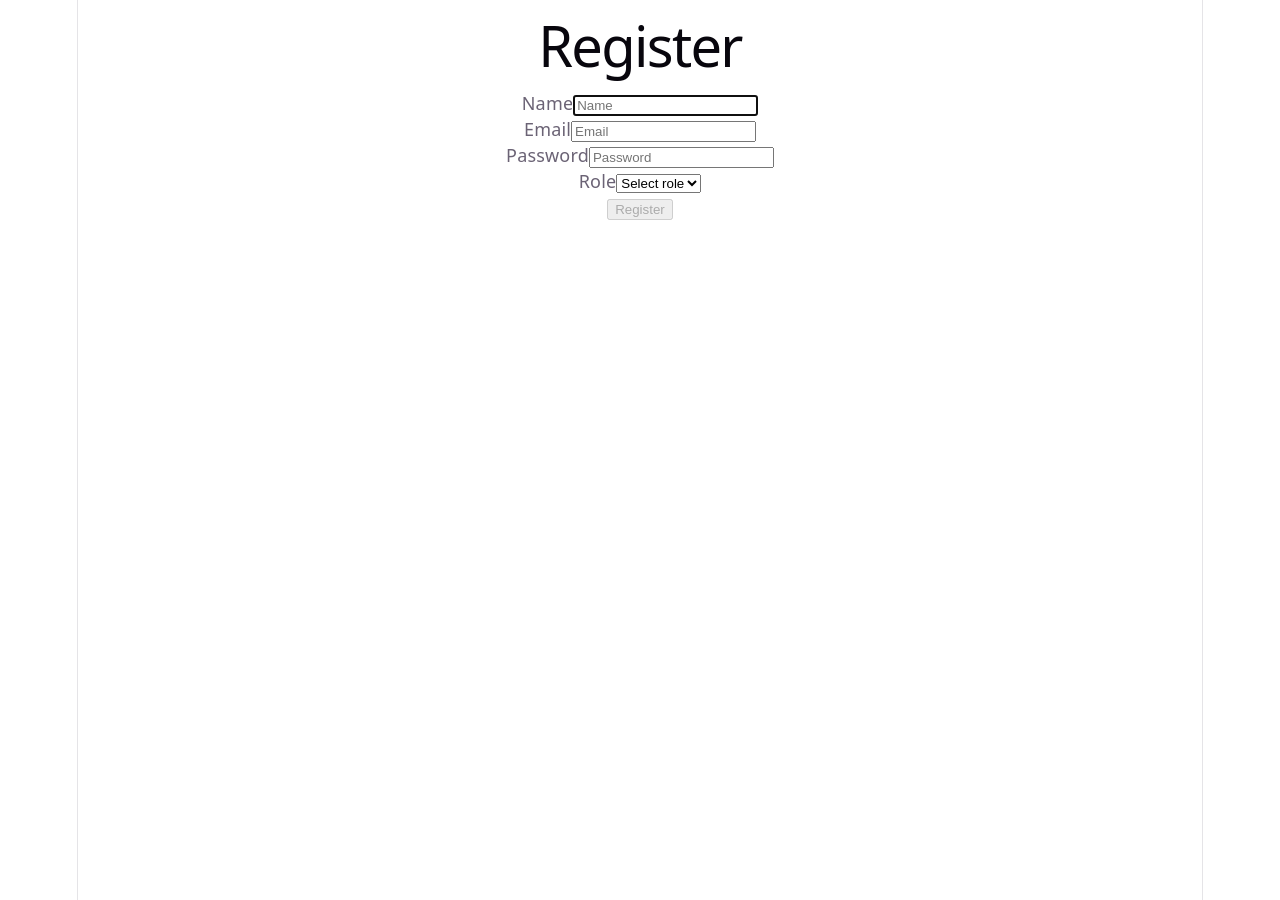
it: RegisterPage › the button is enabled when all fields are filled
Type "Jane Doe" into the field labelled "Name" at (666, 106), box [573,95,758,116]
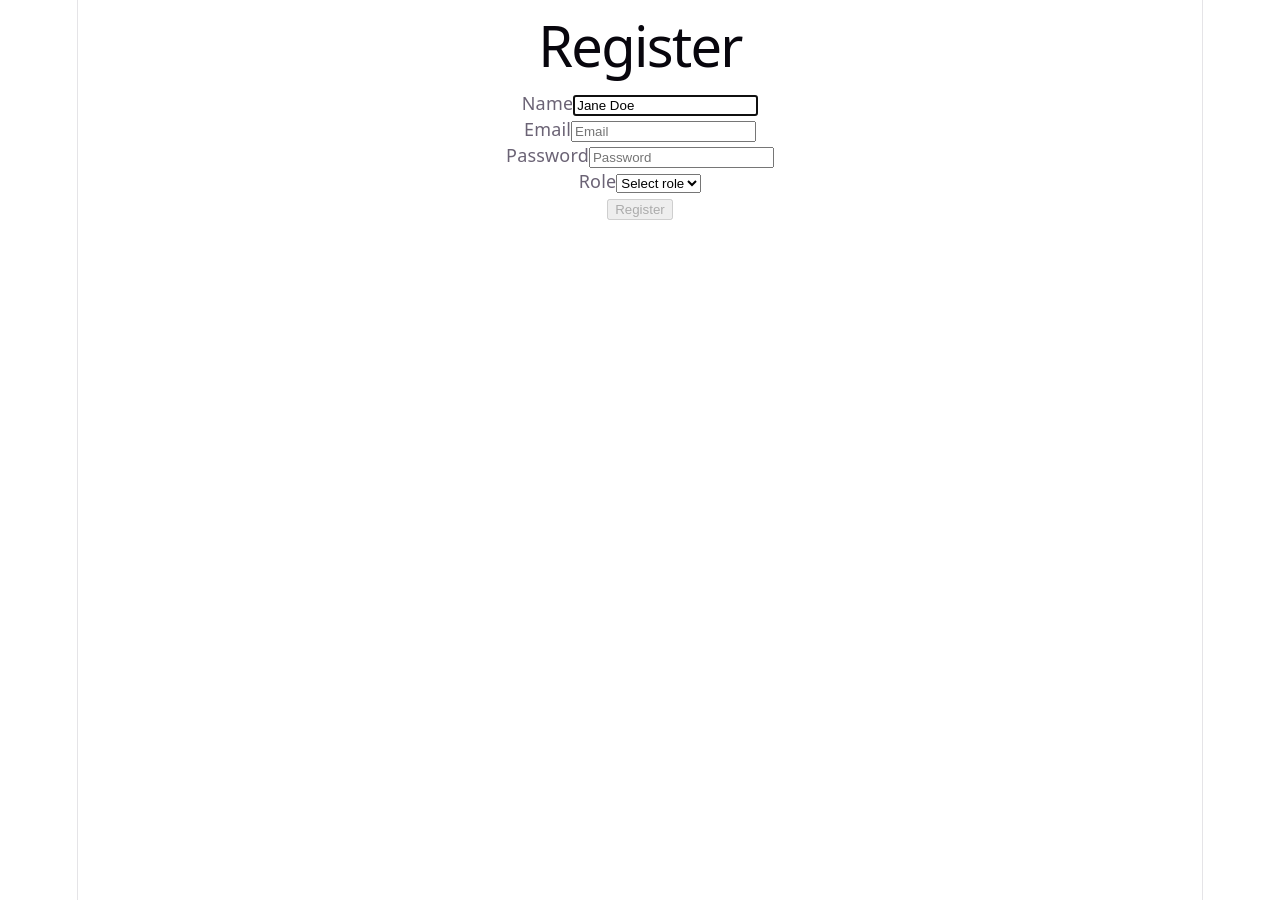
Type "jane@example.com" into the field labelled "Email" at (664, 132), box [571,121,756,142]
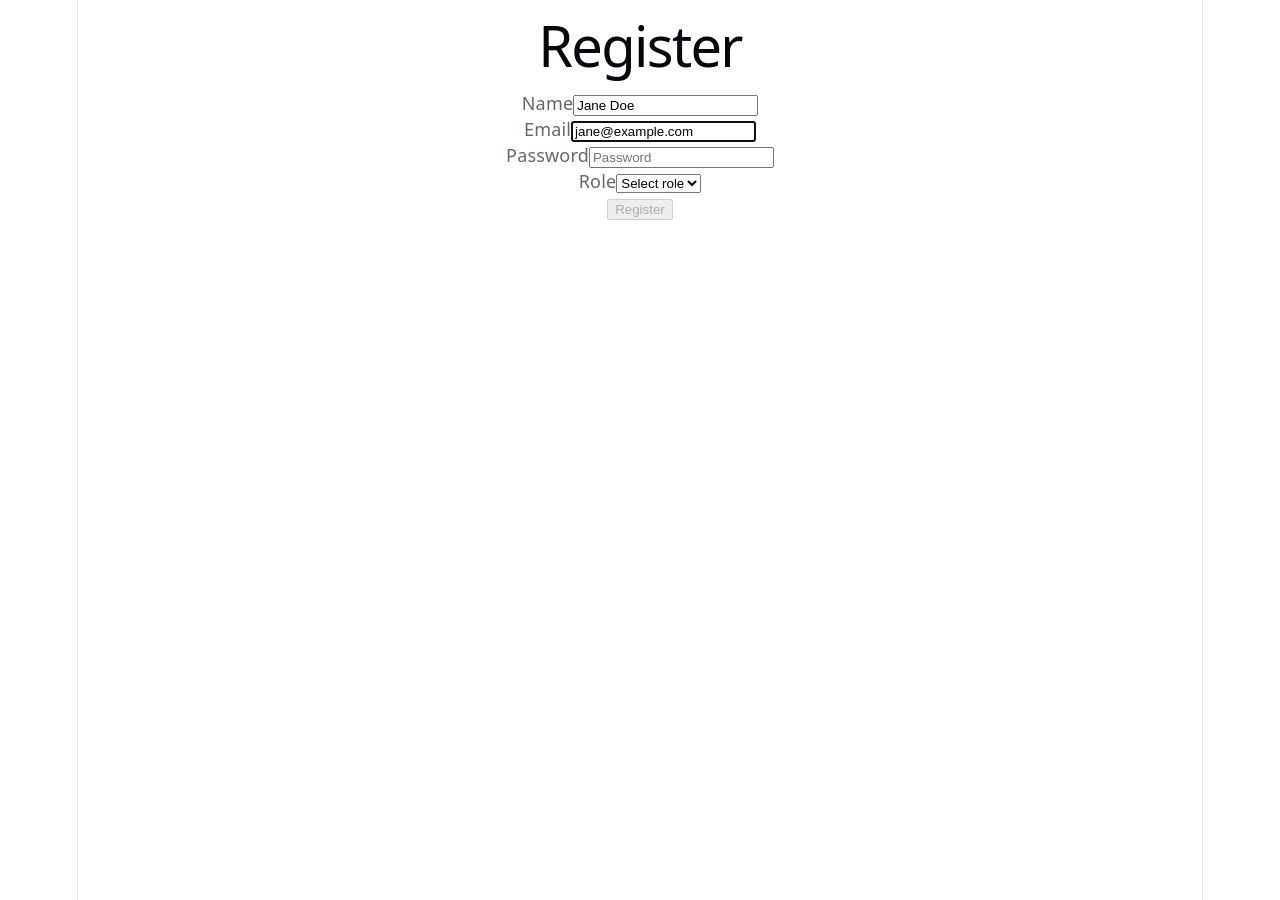
Type "password" into the password field labelled "Password" at (681, 158), box [589,147,774,168]
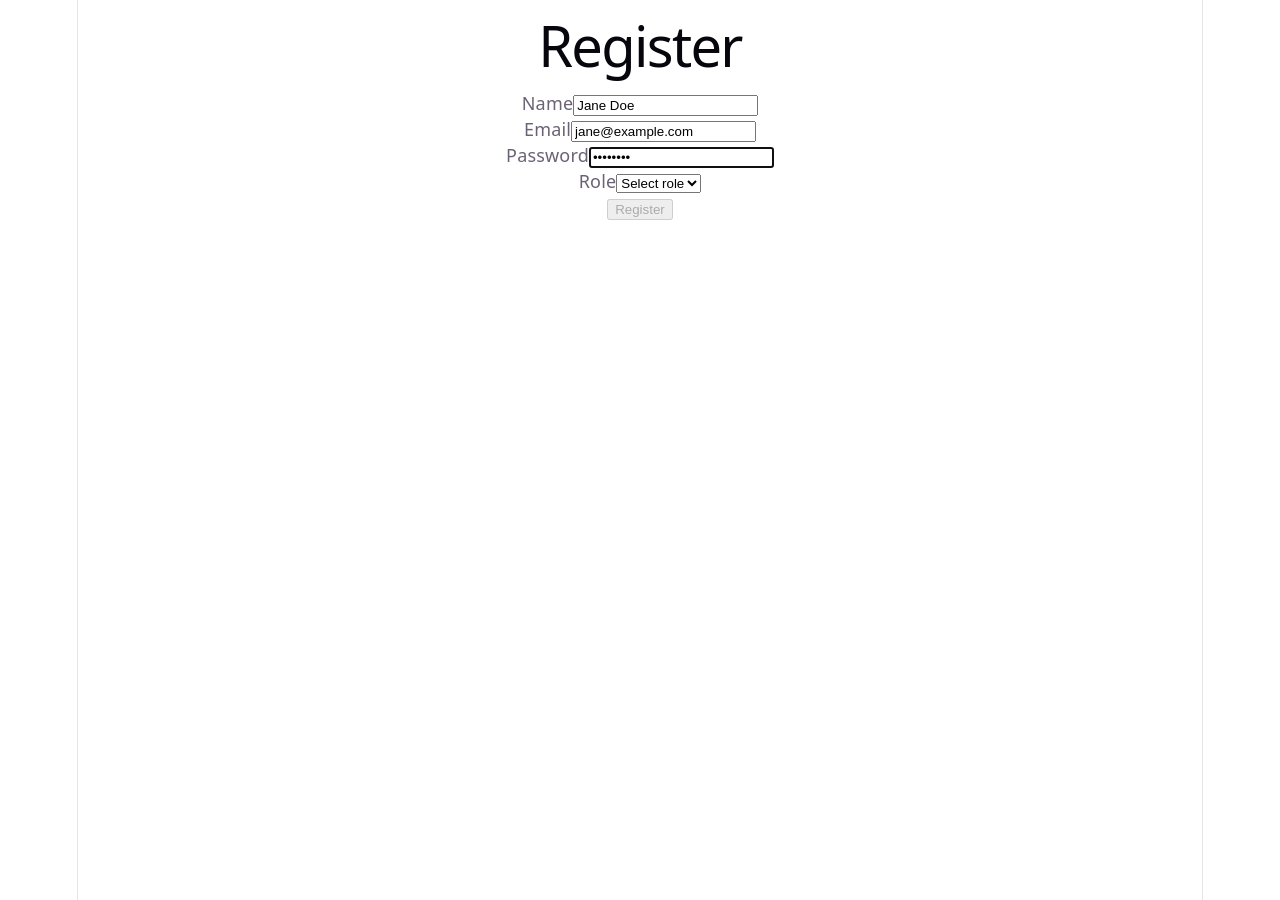
Select "Teacher" in the dropdown labelled "Role" at (659, 184), box [616,174,701,193]
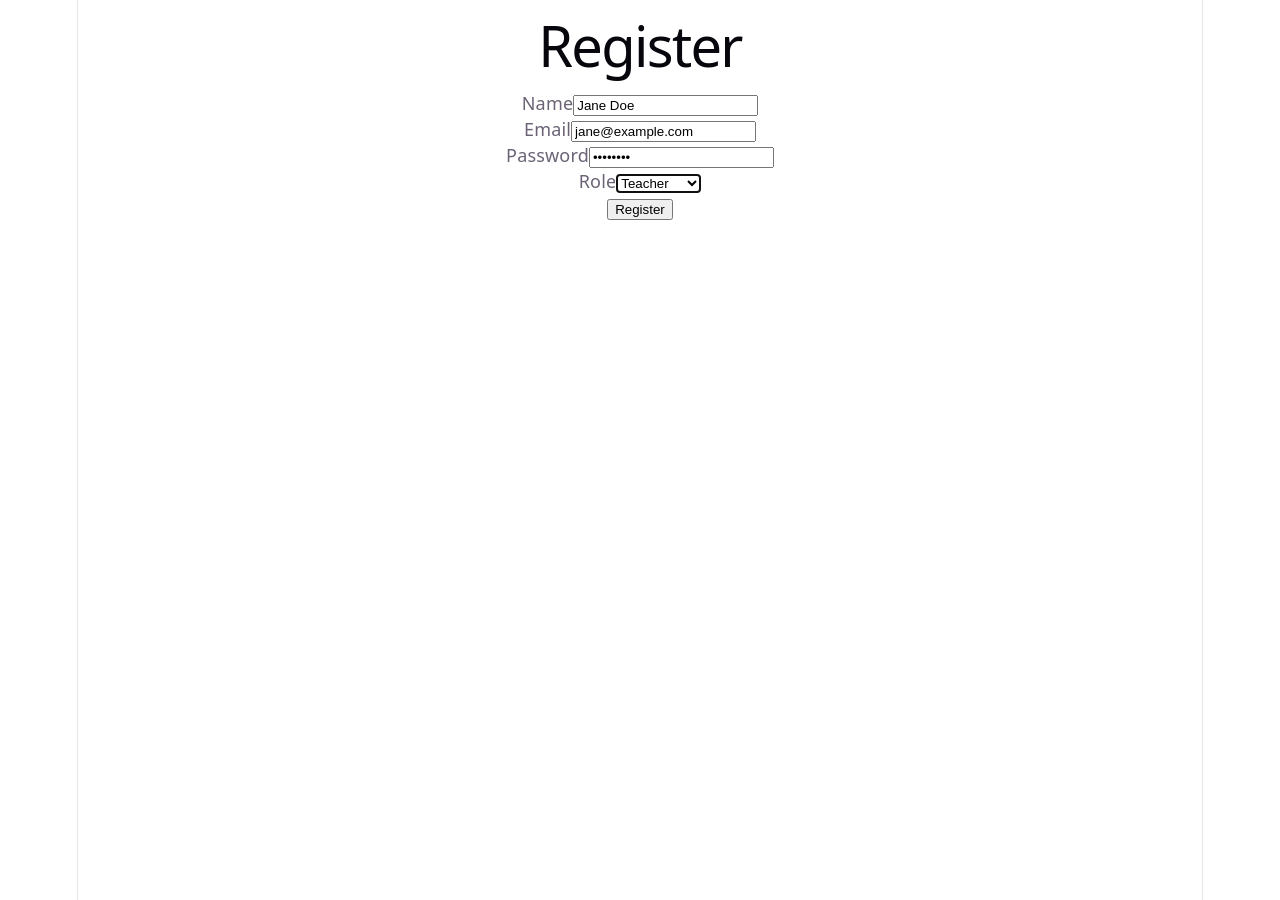
Now the button "Register" is enabled, box [607,200,673,220]
